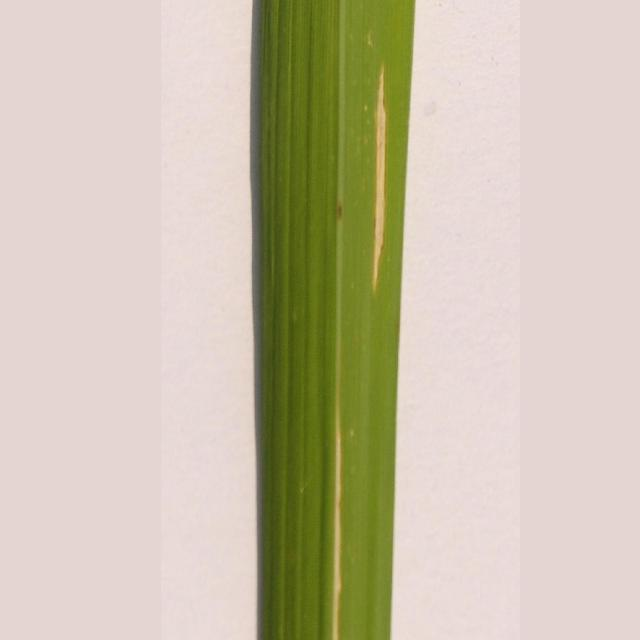Bacterial_Leaf_Blight: (309, 39, 458, 436)
